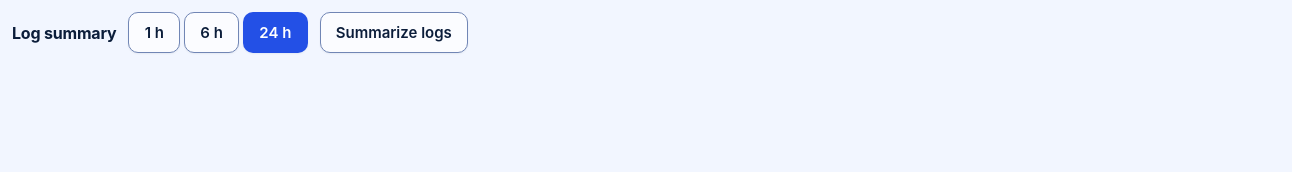
Test: LogSummary › shows the error message
Click the button "Summarize logs" at (394, 33), box [320,12,468,53]
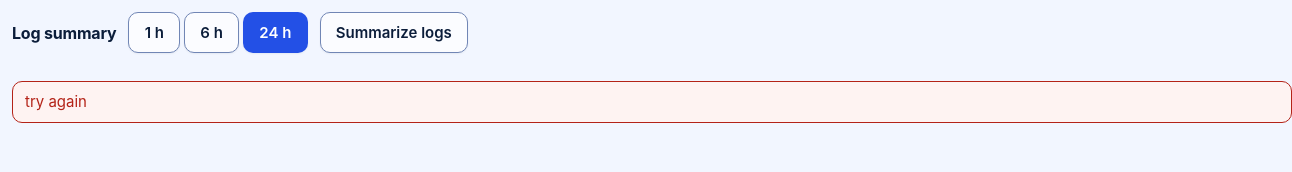
Result: the message reads "try again" at [25,92,87,111]
